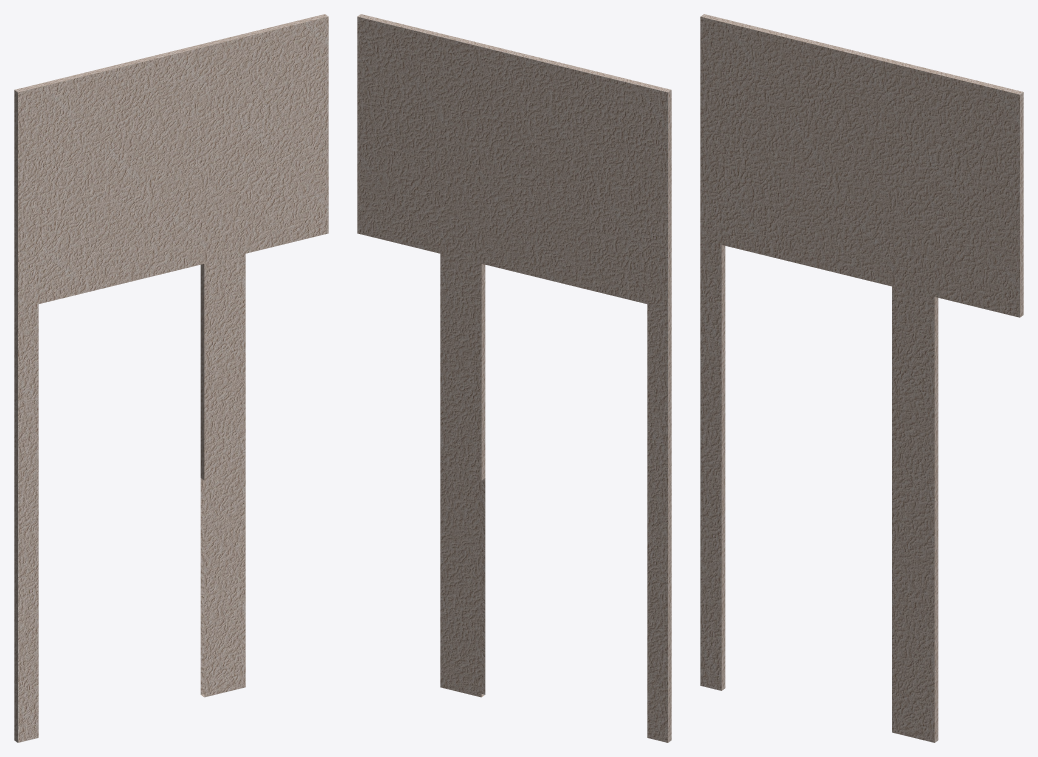
File: subwall pair d door.FBX
3 views of the same model, side by side, from view 1: azimuth 30°, elevation 25°; view 2: azimuth 150°, elevation 25°; view 3: azimuth 330°, elevation 25° (orthographic). The views are drawn at different scales.
Visible parts, largest first — view 1: subwall pair; view 2: subwall pair; view 3: subwall pair.
Boxes of the visible parts, x1,y1,x2,y2 form: subwall pair: (14, 14, 328, 742); subwall pair: (357, 14, 671, 742); subwall pair: (700, 14, 1023, 742).
Size of the model in its own units: 59.06 by 118 by 1.18.
1 material, 1 textured.
